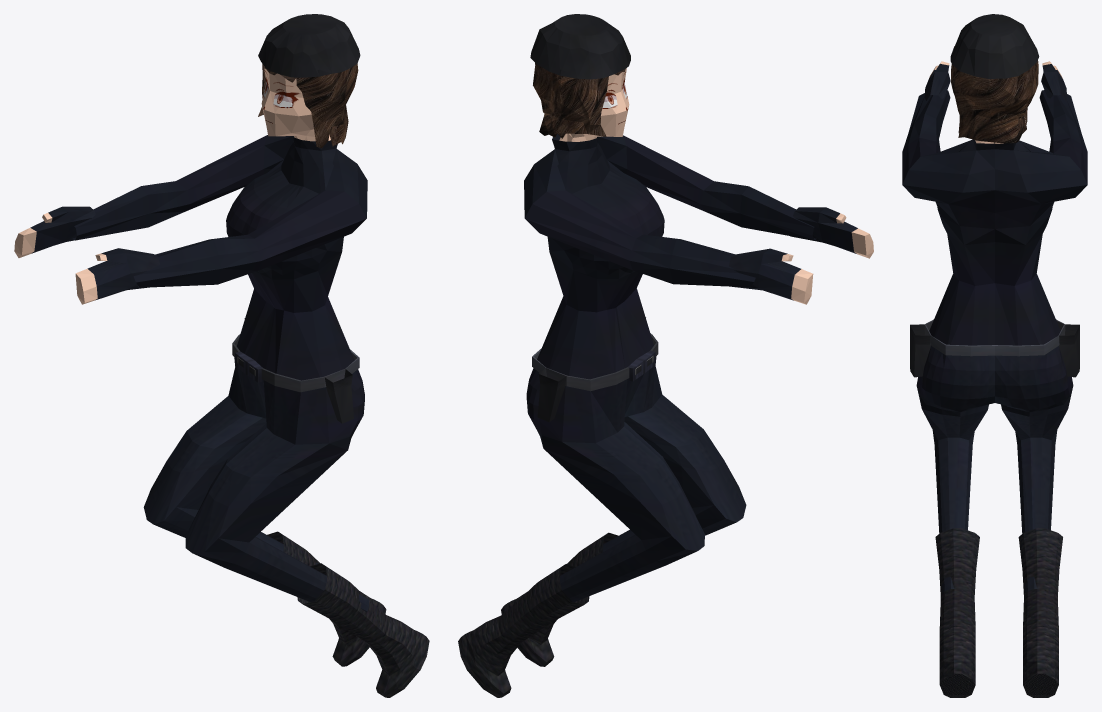
Rendered from human_sitting.obj.
The picture shows the model from 3 angles, left to right: view 1: azimuth 30°, elevation 25°; view 2: azimuth 150°, elevation 25°; view 3: azimuth 270°, elevation 25°; orthographic projection. The views are drawn at different scales.
Parts seen in each view (by area): view 1: Shirt.001_Cylinder.012, Legwear.001_Cylinder.011, Hair.001_Plane.005, Boots.001_Cylinder.007, Gloves.002_Cylinder.013, Model.002_Cylinder.005; view 2: Shirt.001_Cylinder.012, Legwear.001_Cylinder.011, Hair.001_Plane.005, Boots.001_Cylinder.007, Gloves.002_Cylinder.013, Model.002_Cylinder.005; view 3: Shirt.001_Cylinder.012, Legwear.001_Cylinder.011, Boots.001_Cylinder.007, Hair.001_Plane.005, Gloves.002_Cylinder.013.
Boxes of the visible parts, x1,y1,x2,y2 form: Shirt.001_Cylinder.012: (72,135,367,380); Legwear.001_Cylinder.011: (143,318,368,612); Hair.001_Plane.005: (258,14,360,148); Boots.001_Cylinder.007: (267,531,429,697); Gloves.002_Cylinder.013: (14,206,159,304); Model.002_Cylinder.005: (261,66,330,141); Shirt.001_Cylinder.012: (524,133,816,379); Legwear.001_Cylinder.011: (526,317,746,601); Hair.001_Plane.005: (530,14,630,138); Boots.001_Cylinder.007: (458,532,618,697); Gloves.002_Cylinder.013: (729,207,873,304); Model.002_Cylinder.005: (559,68,629,141); Shirt.001_Cylinder.012: (902,90,1087,345); Legwear.001_Cylinder.011: (910,319,1079,593); Boots.001_Cylinder.007: (935,528,1062,697); Hair.001_Plane.005: (950,14,1039,143); Gloves.002_Cylinder.013: (924,61,1067,101).
Size of the model in its own units: 1.6 by 2.85 by 0.7419.
